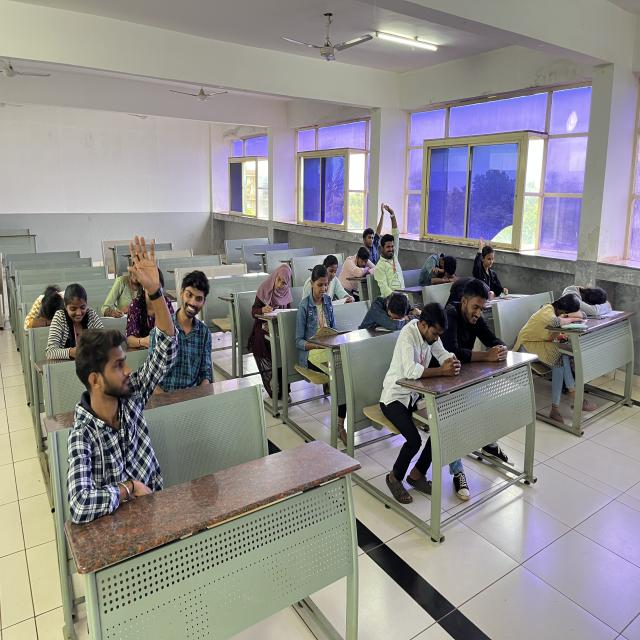Hand Rising: (59, 228, 182, 514), (373, 198, 406, 290), (360, 196, 388, 263)
Reading: (292, 259, 356, 350), (302, 250, 356, 308)
Sleeping: (514, 288, 594, 353), (356, 288, 430, 346), (556, 276, 621, 324), (414, 247, 468, 297)
Using Phone: (49, 282, 113, 358)
Writing: (246, 259, 303, 334)
